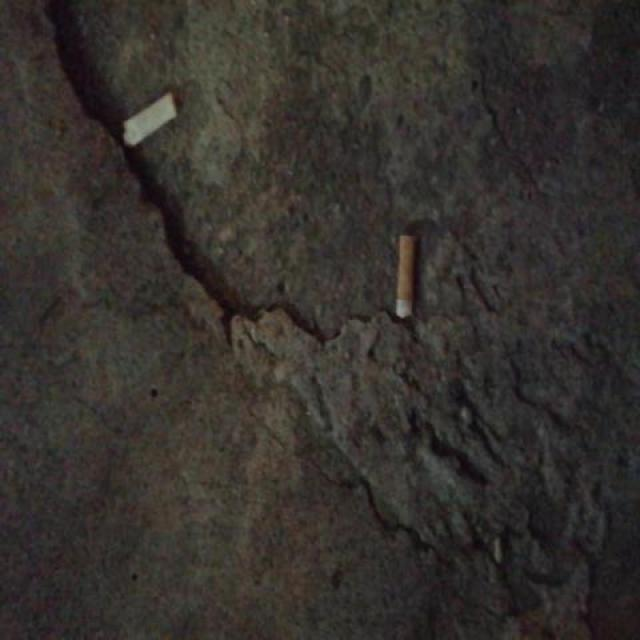non-organic waste: (120, 85, 181, 156), (393, 228, 418, 324)
